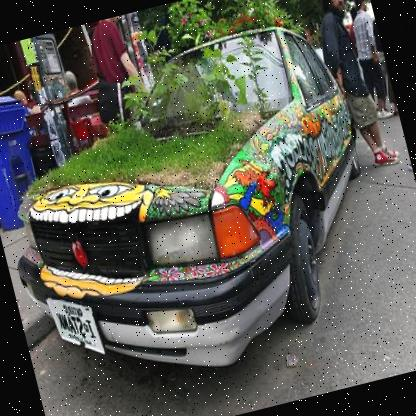car: (0, 5, 399, 412)
person: (304, 0, 403, 179)
